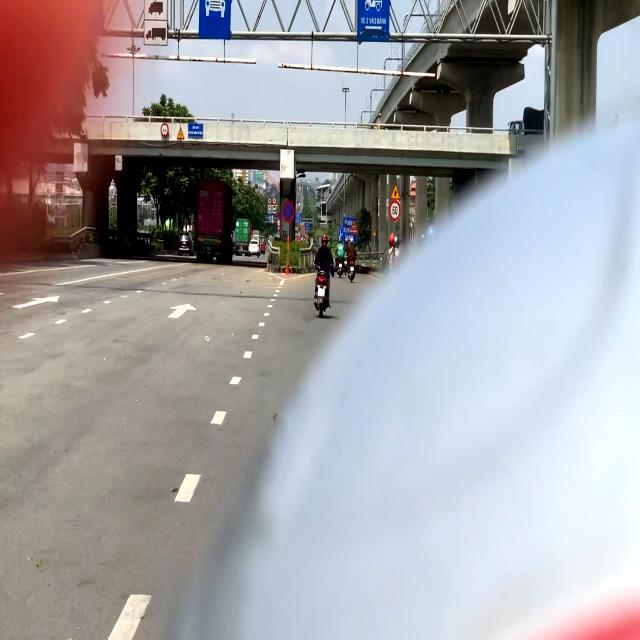Cam dung xe va do xe: (282, 199, 296, 224)
Chieu cao an toan: (177, 126, 186, 140)
Giao nhau voi duong khong uu tien ben phai: (390, 181, 402, 200)
Han che chieu cao: (160, 122, 169, 138)
Toc do toi da cho phep: (390, 200, 400, 220)
